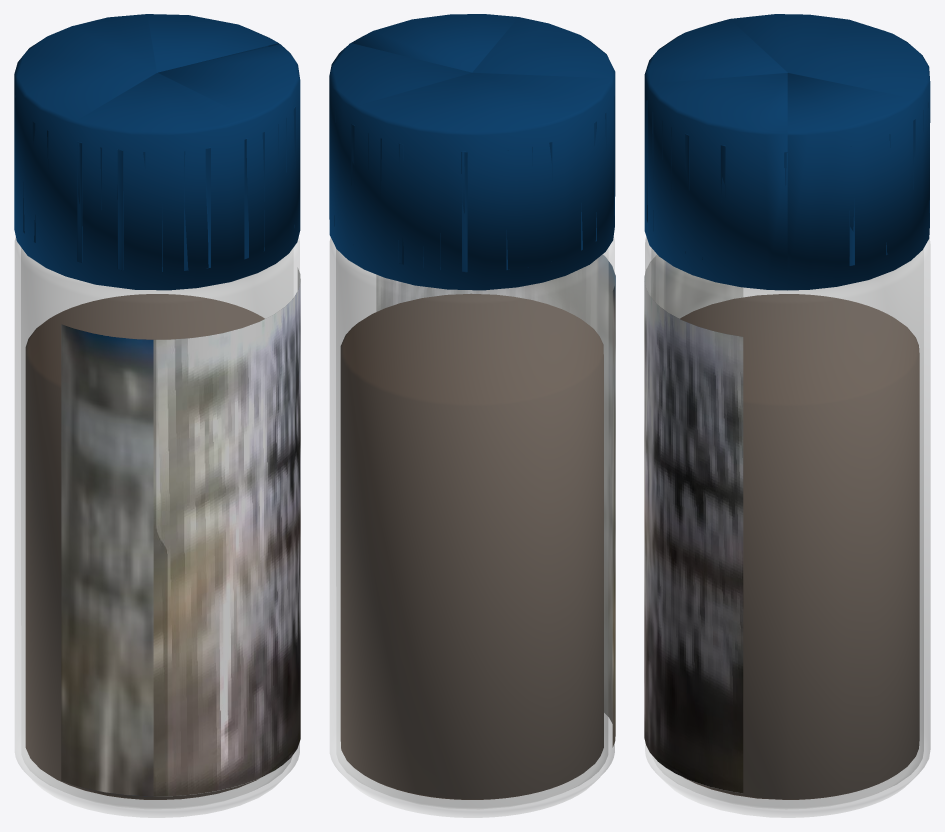
The picture shows the model from 3 angles, left to right: view 1: azimuth 30°, elevation 25°; view 2: azimuth 150°, elevation 25°; view 3: azimuth 270°, elevation 25°; orthographic projection.
Visible parts, largest first — view 1: spice_grinder__body, spice_grinder__cap; view 2: spice_grinder__body, spice_grinder__cap; view 3: spice_grinder__body, spice_grinder__cap.
Part boxes in pixels (x1,y1,x2,y2): spice_grinder__body: [15, 237, 300, 817]; spice_grinder__cap: [14, 14, 300, 290]; spice_grinder__body: [330, 237, 615, 817]; spice_grinder__cap: [329, 14, 615, 290]; spice_grinder__body: [644, 237, 930, 817]; spice_grinder__cap: [644, 14, 930, 290].
Size of the model in its own units: 0.0583 by 0.1552 by 0.0584.
Materials: 4 (1 with a texture image).
